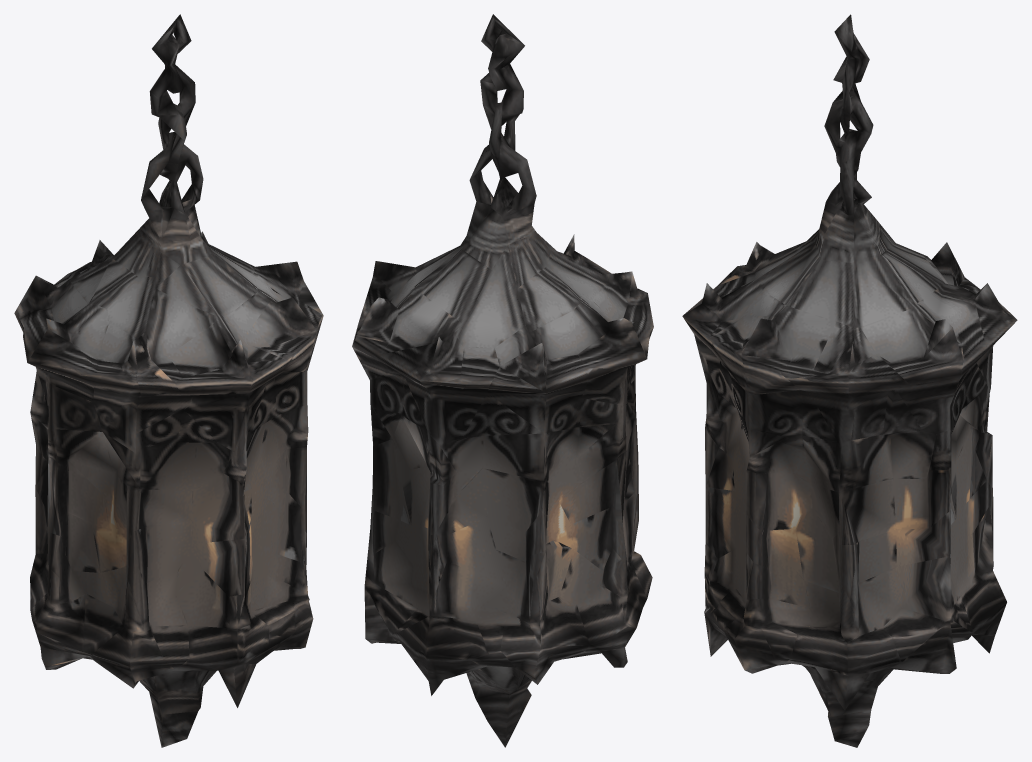
The model's file is hanging_lantern.glb.
3 renders of one model, left to right at view 1: azimuth 30°, elevation 25°; view 2: azimuth 150°, elevation 25°; view 3: azimuth 270°, elevation 25°, orthographic.
Size of the model in its own units: 0.7727 by 1.96 by 0.8021.
1 material, 1 textured.
